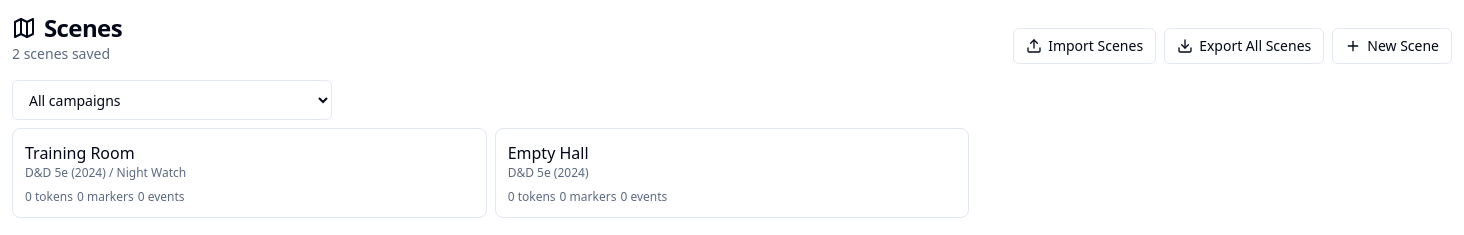
Test: LibraryScenesView › filters the list by campaign
Select "Night Watch" in the dropdown named "filter scenes by campaign": (172, 100) [12,80,332,120]
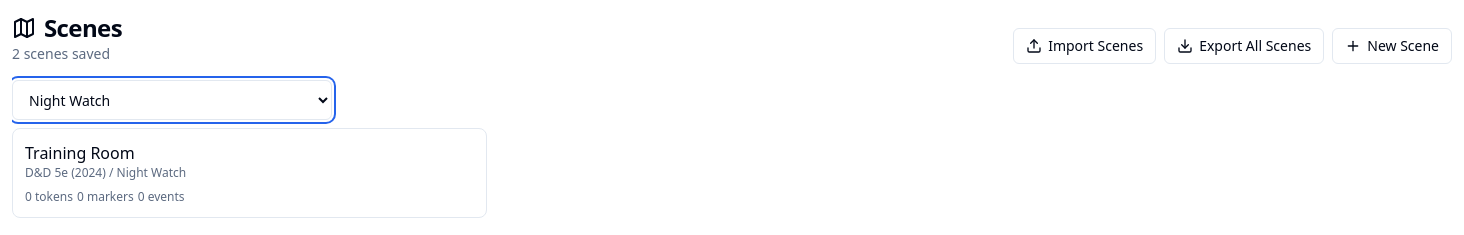
Expected: the button "Training Room" is shown, [12,128,487,218]
Now the button "Empty Hall" is gone
